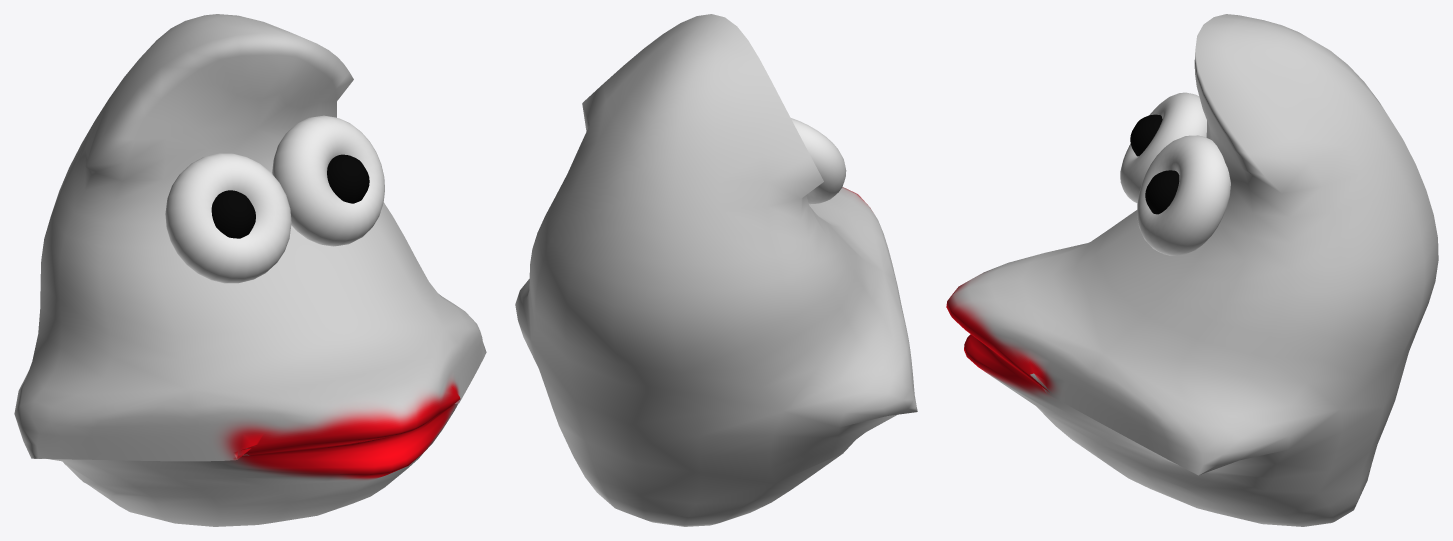
File: Gepp.fbx
3 renders of one model, left to right at view 1: azimuth 30°, elevation 25°; view 2: azimuth 150°, elevation 25°; view 3: azimuth 270°, elevation 25°, orthographic. The views are drawn at different scales.
Parts seen in each view (by area): view 1: Plane, Torus, Torus.001, Sphere, Sphere.001; view 2: Plane, Torus; view 3: Plane, Torus.001, Torus, Sphere.001, Sphere.
Part boxes in pixels (<box>): Plane: <box>14,14,486,526</box>; Torus: <box>165,153,291,283</box>; Torus.001: <box>272,115,384,246</box>; Sphere: <box>211,190,255,238</box>; Sphere.001: <box>327,154,369,203</box>; Plane: <box>515,14,917,526</box>; Torus: <box>791,118,846,204</box>; Plane: <box>946,14,1438,526</box>; Torus.001: <box>1137,135,1230,255</box>; Torus: <box>1120,92,1206,203</box>; Sphere.001: <box>1145,170,1179,214</box>; Sphere: <box>1130,114,1162,156</box>.
Bounding box in the file's own units: 34.28 × 37.4 × 35.01.
